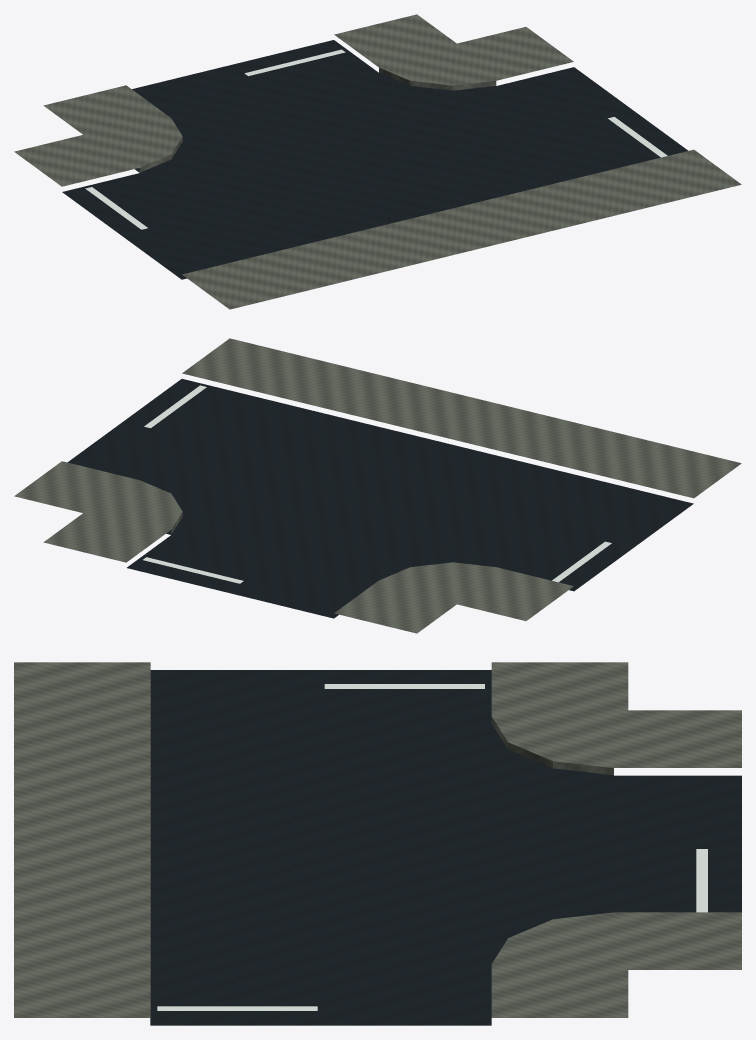
Rendered from junc_tee_2x2_LOD2.glb.
3 views of the same model, one above another, from view 1: azimuth 30°, elevation 25°; view 2: azimuth 150°, elevation 25°; view 3: azimuth 270°, elevation 25° (orthographic). The views are drawn at different scales.
Parts seen in each view (by area): view 1: junc_tee_2x2__surface.002, junc_tee_2x2__rounded_corner_curb.002, junc_tee_2x2__stop_line_paint.002; view 2: junc_tee_2x2__surface.002, junc_tee_2x2__rounded_corner_curb.002, junc_tee_2x2__stop_line_paint.002; view 3: junc_tee_2x2__surface.002, junc_tee_2x2__rounded_corner_curb.002, junc_tee_2x2__stop_line_paint.002.
Boxes of the visible parts, x1=… form: junc_tee_2x2__surface.002: x1=62, y1=40, x2=688, y2=279; junc_tee_2x2__rounded_corner_curb.002: x1=14, y1=14, x2=741, y2=309; junc_tee_2x2__stop_line_paint.002: x1=85, y1=49, x2=667, y2=229; junc_tee_2x2__surface.002: x1=67, y1=379, x2=693, y2=618; junc_tee_2x2__rounded_corner_curb.002: x1=14, y1=338, x2=741, y2=633; junc_tee_2x2__stop_line_paint.002: x1=143, y1=385, x2=611, y2=583; junc_tee_2x2__surface.002: x1=150, y1=670, x2=741, y2=1025; junc_tee_2x2__rounded_corner_curb.002: x1=14, y1=662, x2=741, y2=1017; junc_tee_2x2__stop_line_paint.002: x1=157, y1=684, x2=707, y2=1010.
Size of the model in its own units: 14.8 by 0.145 by 12.8.
Materials: 4 (3 with a texture image).
